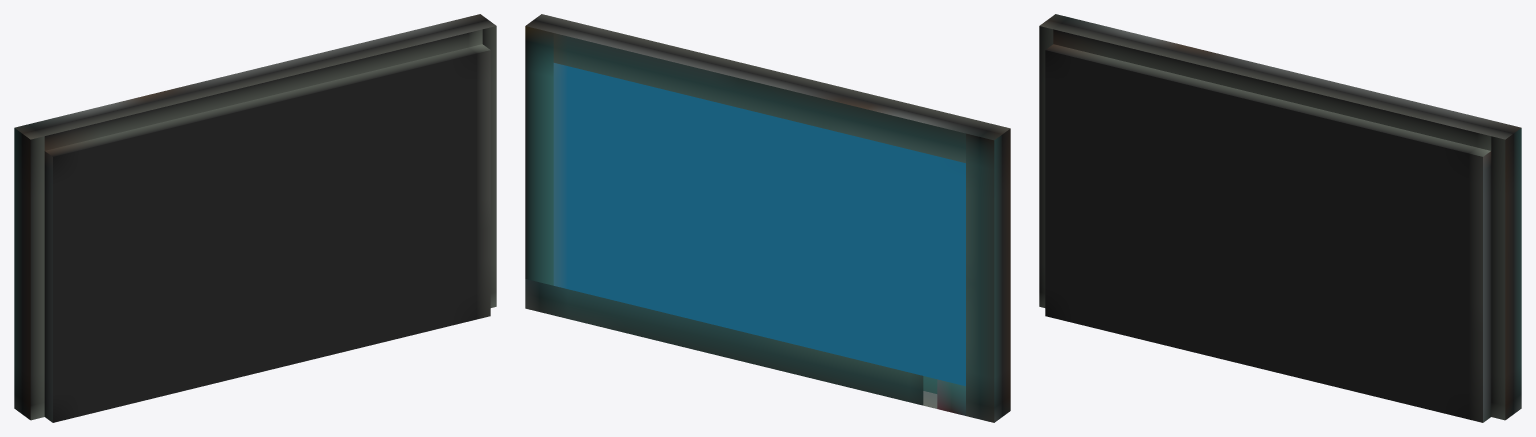
The model's file is TVWallMount_00.fbx.
3 views of the same model, side by side, from view 1: azimuth 30°, elevation 25°; view 2: azimuth 150°, elevation 25°; view 3: azimuth 330°, elevation 25° (orthographic).
Visible parts, largest first — view 1: TVWallMount_00; view 2: TVWallMount_00; view 3: TVWallMount_00.
Part boxes in pixels (x1,y1,x2,y2): TVWallMount_00: [14, 14, 496, 422]; TVWallMount_00: [525, 14, 1010, 422]; TVWallMount_00: [1039, 14, 1521, 422].
Size of the model in its own units: 165 by 15 by 95.
2 materials, 2 textured.
